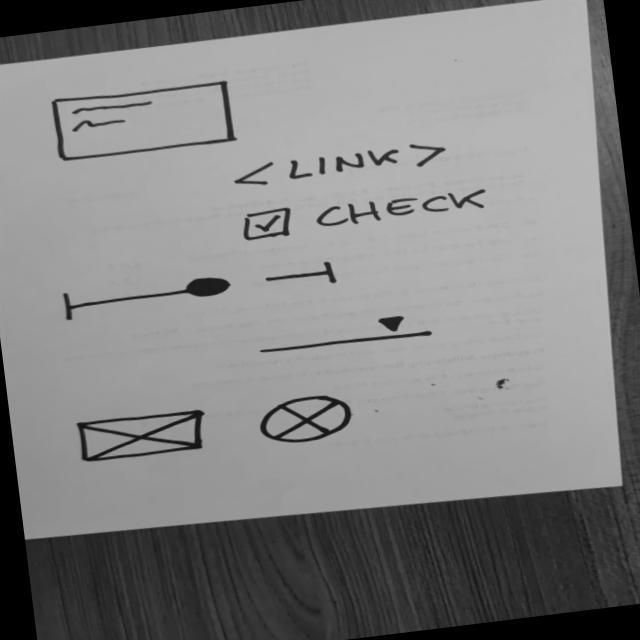checkbox: (236, 181, 492, 245)
image: (72, 405, 215, 468), (255, 390, 359, 449)
link: (227, 136, 454, 195)
select: (254, 309, 437, 361)
slider: (55, 258, 346, 324)
textarea: (48, 77, 243, 166)
